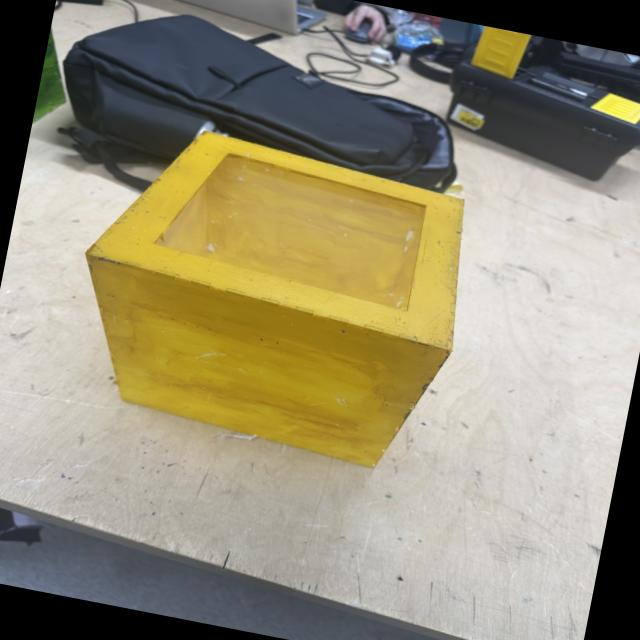yellow_bin: (52, 110, 486, 480)
